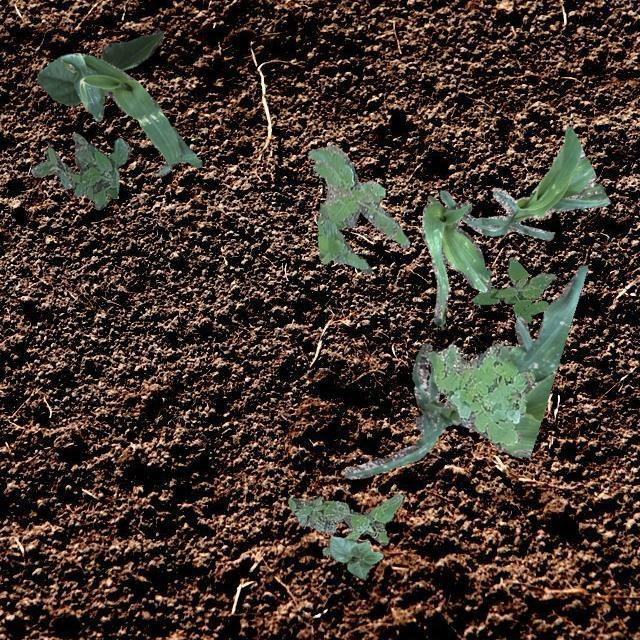crop: (342, 264, 586, 478), (438, 125, 610, 238), (60, 52, 202, 174), (36, 28, 162, 106), (420, 194, 490, 328), (328, 536, 382, 580)
weed: (306, 144, 408, 272), (426, 342, 534, 444), (30, 132, 130, 208), (288, 492, 402, 556), (472, 256, 554, 322)
